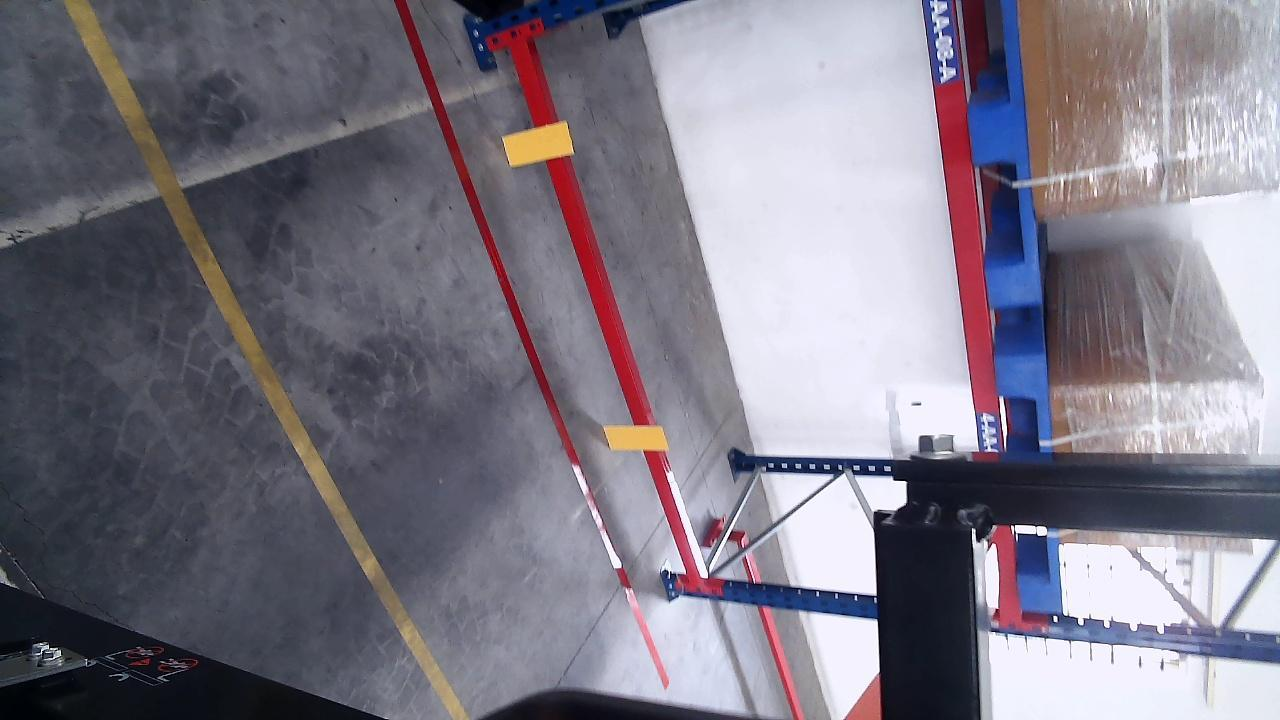h_rack: (508, 41, 704, 578), (917, 0, 1005, 450)
orange_strip: (504, 123, 574, 163), (604, 425, 669, 448)
red_line: (392, 0, 671, 686)
small_pallet: (959, 2, 1046, 311), (997, 359, 1063, 611)
yellow_line: (62, 0, 469, 720)
